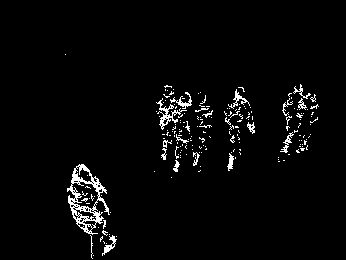person: (69, 163, 116, 260), (226, 87, 255, 174), (281, 83, 304, 162), (173, 90, 193, 173), (191, 91, 211, 173), (158, 84, 175, 159), (301, 93, 318, 154)
